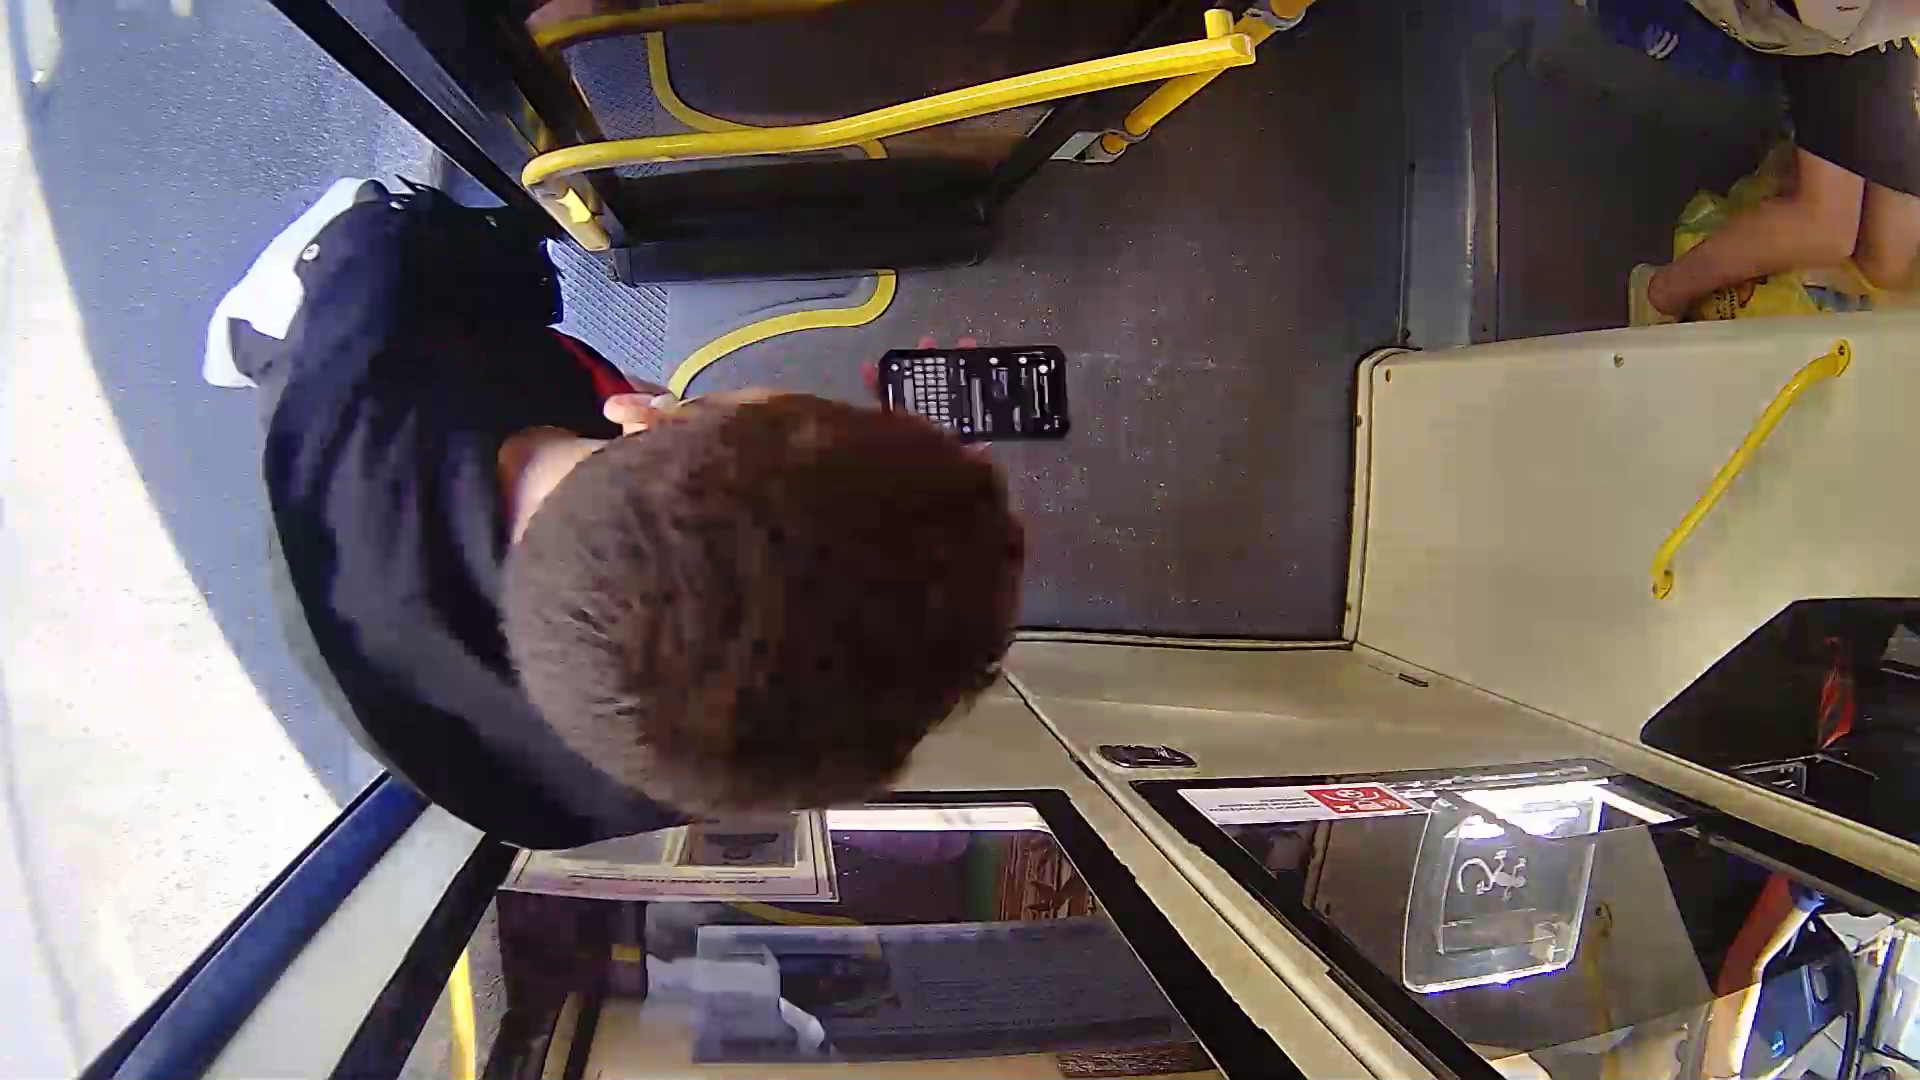person: (206, 196, 1046, 855)
